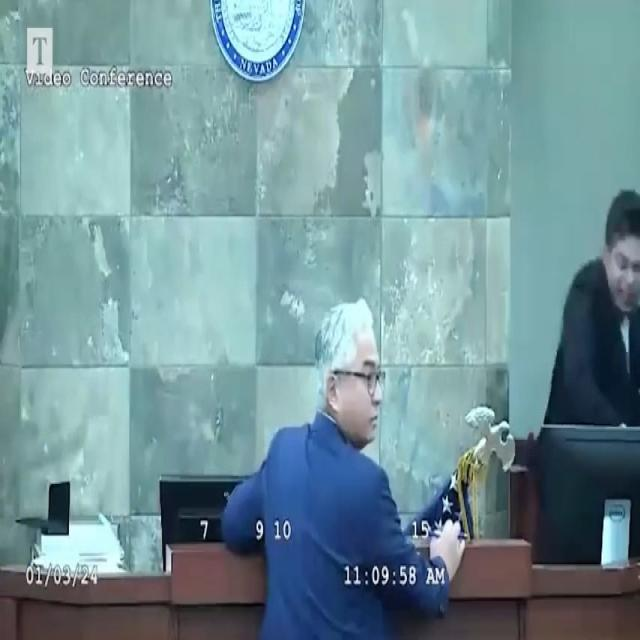non-fight: (217, 290, 464, 640), (539, 182, 640, 427)
